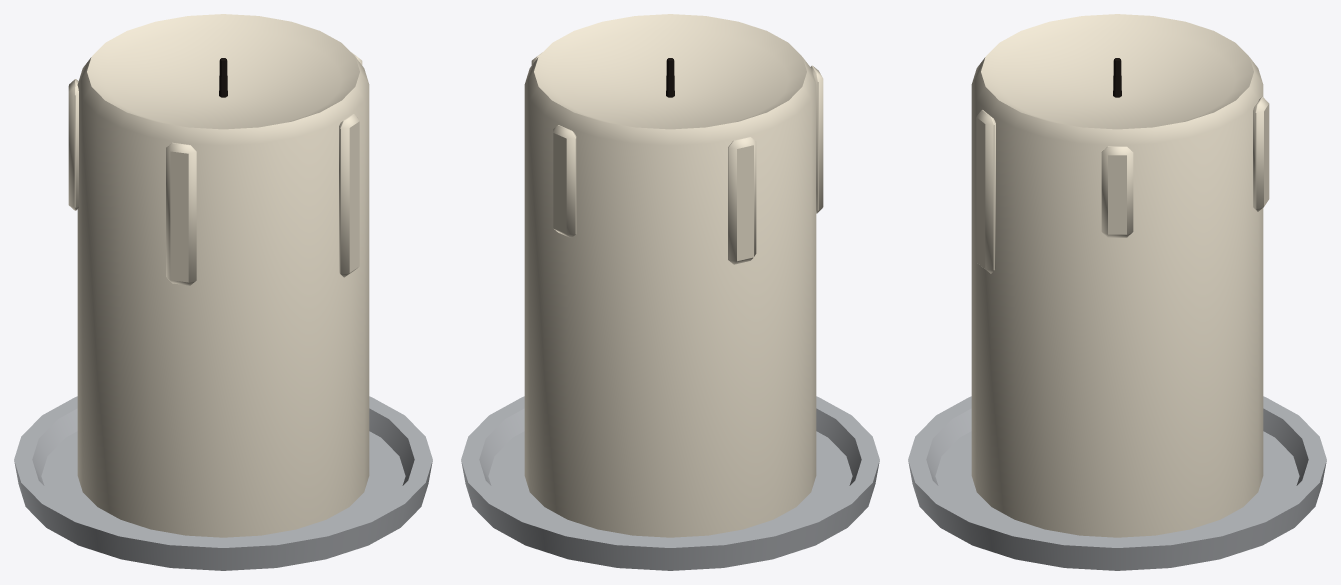
File: candle.glb
3 renders of one model, left to right at view 1: azimuth 30°, elevation 25°; view 2: azimuth 150°, elevation 25°; view 3: azimuth 270°, elevation 25°, orthographic.
Visible parts, largest first — view 1: candle; view 2: candle; view 3: candle.
Part boxes in pixels (x1,y1,x2,y2): candle: (14,14,432,570); candle: (461,14,879,570); candle: (908,14,1326,570).
Bounding box in the file's own units: 0.09 × 0.1008 × 0.09.
